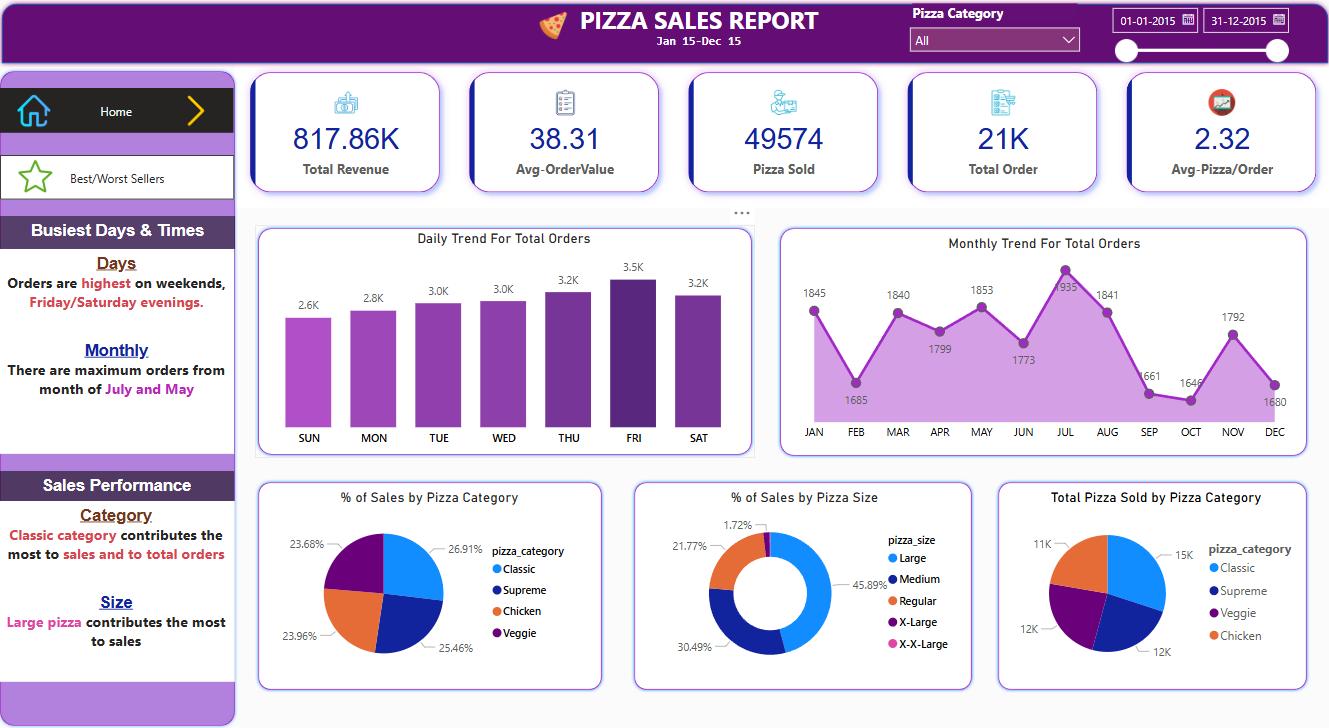

The dashboard page shown, as its layout file describes it:
{"tool":"powerbi","page":{"name":"Home","canvas":[1500,820],"ordinal":0},"visuals":[{"type":"cardVisual","fields":{"Data":["pizza_sales.Total Revenue","pizza_sales.Avg-OrderValue","pizza_sales.Pizza Sold","pizza_sales.Total Order","pizza_sales.Avg-Pizza/Order"]},"box":[267.2,65.1,1232.8,169.5],"z":0},{"type":"shape","box":[0,0,1500,77.5],"z":1000},{"type":"textbox","box":[647.8,0,280.7,65.1],"z":2000},{"type":"textbox","box":[724.5,32.9,127.2,36.3],"z":3000},{"type":"image","box":[433.8,9.1,381.5,42],"z":4000},{"type":"shape","box":[289.7,253.7,561.4,261.6],"z":5000},{"type":"columnChart","title":"Daily Trend For Total Orders","fields":{"Category":["pizza_sales.Order Day"],"Y":["pizza_sales.Total Order"]},"box":[289.7,259.4,559.1,251.5],"z":6000},{"type":"shape","box":[875.7,253.7,598.4,262.7],"z":7000},{"type":"areaChart","title":"Monthly Trend For Total Orders","fields":{"Category":["pizza_sales.Month-Name"],"Y":["pizza_sales.Total Order"]},"box":[893.7,265,564.7,239.1],"z":8000},{"type":"shape","box":[289.7,538.9,393,240.3],"z":9000},{"type":"shape","box":[711.8,538.9,386.2,240.3],"z":10000},{"type":"shape","box":[1120.5,538.9,353.7,240.3],"z":11000},{"type":"pieChart","title":"%  of Sales by Pizza Category","fields":{"Category":["pizza_sales.pizza_category"],"Y":["pizza_sales.Total Revenue"]},"box":[307.6,550.1,355.9,216.7],"z":12000},{"type":"donutChart","title":"% of Sales by Pizza Size","fields":{"Category":["pizza_sales.pizza_size"],"Y":["pizza_sales.Total Revenue"]},"box":[730.9,550.1,351.4,216.7],"z":13000},{"type":"pieChart","title":"Total Pizza Sold by Pizza Category","fields":{"Category":["pizza_sales.pizza_category"],"Y":["pizza_sales.Pizza Sold"]},"box":[1128.4,550.1,345.8,216.7],"z":14000},{"type":"shape","box":[0,77.5,270.6,742.1],"z":15000},{"type":"textbox","box":[3.4,243.6,263.8,37.1],"z":16000},{"type":"textbox","box":[2.2,280.7,263.8,230.2],"z":17000},{"type":"textbox","box":[2.2,529.9,263.8,33.7],"z":18000},{"type":"textbox","box":[0,563.6,267.2,203.2],"z":19000},{"type":"slicer","fields":{"Values":["pizza_sales.pizza_category"]},"box":[1015,0,211.1,68.5],"z":20000},{"type":"slicer","fields":{"Values":["pizza_sales.order_date"]},"box":[1239.5,0,218.9,77.5],"z":21000},{"type":"pageNavigator","box":[2.2,99.9,263.8,50.5],"z":22000},{"type":"pageNavigator","box":[3.4,175.1,263.8,50.5],"z":23000},{"type":"image","box":[18,99.9,47.2,50.5],"z":24000},{"type":"image","box":[19.1,174,48.3,50.5],"z":25000},{"type":"image","box":[201,99.9,44.9,50.5],"z":26000}]}

Visuals, with their boxes in screenshot pixels (x1, y1, x2, y2), scaled from the page's 1500x820 canvas onto the 1329x728 screenshot:
cardVisual - pizza_sales.Total Revenue x pizza_sales.Avg-OrderValue: <box>237,58,1328,208</box>
shape: <box>0,0,1328,69</box>
textbox: <box>574,0,823,58</box>
textbox: <box>642,29,755,61</box>
image: <box>384,8,722,45</box>
shape: <box>257,225,754,457</box>
"Daily Trend For Total Orders" columnChart: <box>257,230,752,454</box>
shape: <box>776,225,1306,458</box>
"Monthly Trend For Total Orders" areaChart: <box>792,235,1292,448</box>
shape: <box>257,478,605,692</box>
shape: <box>631,478,973,692</box>
shape: <box>993,478,1306,692</box>
"%  of Sales by Pizza Category" pieChart: <box>273,488,588,681</box>
"% of Sales by Pizza Size" donutChart: <box>648,488,959,681</box>
"Total Pizza Sold by Pizza Category" pieChart: <box>1000,488,1306,681</box>
shape: <box>0,69,240,727</box>
textbox: <box>3,216,237,249</box>
textbox: <box>2,249,236,454</box>
textbox: <box>2,470,236,500</box>
textbox: <box>0,500,237,681</box>
slicer - pizza_sales.pizza_category: <box>899,0,1086,61</box>
slicer - pizza_sales.order_date: <box>1098,0,1292,69</box>
pageNavigator: <box>2,89,236,134</box>
pageNavigator: <box>3,155,237,200</box>
image: <box>16,89,58,134</box>
image: <box>17,154,60,199</box>
image: <box>178,89,218,134</box>
